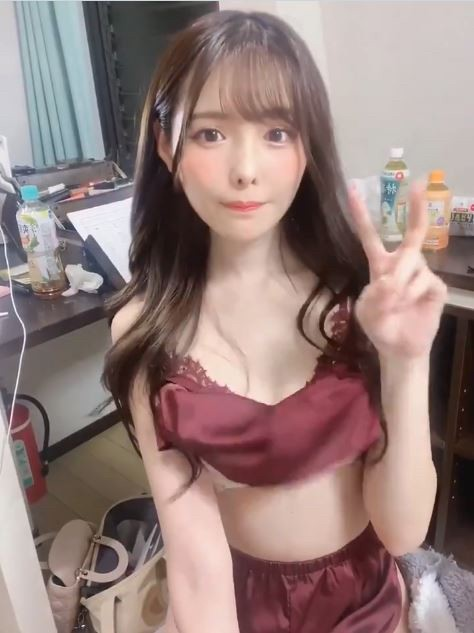people: (107, 9, 406, 630)
